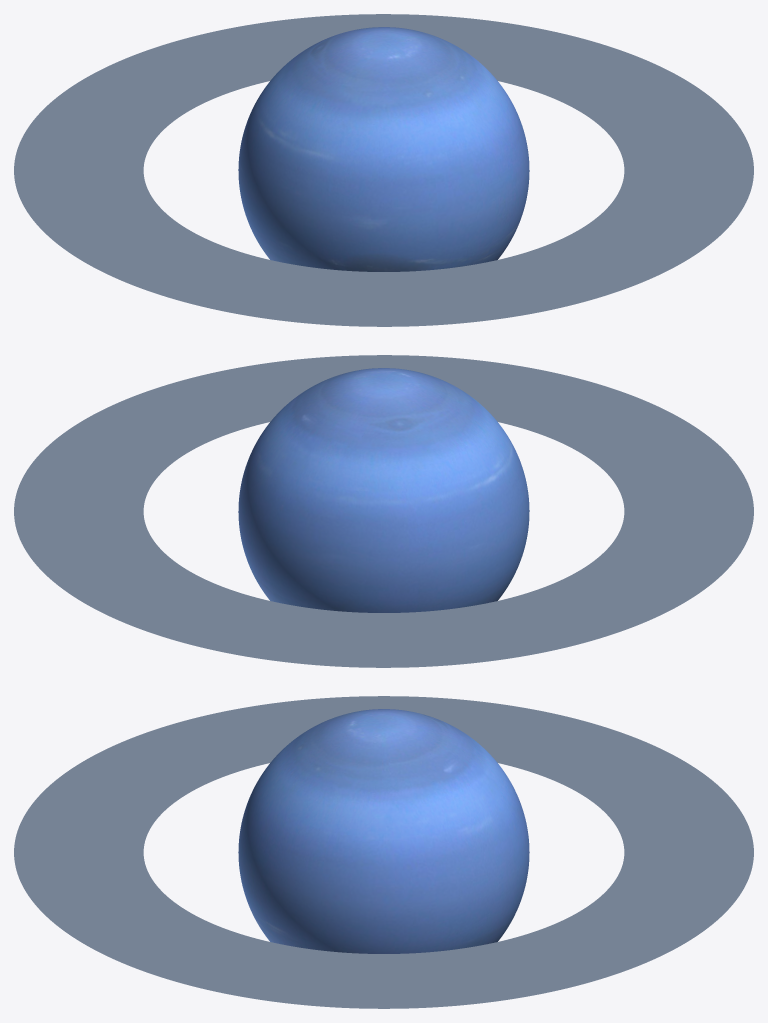
The model's file is neptune.glb.
3 renders of one model, top to bottom at view 1: azimuth 30°, elevation 25°; view 2: azimuth 150°, elevation 25°; view 3: azimuth 270°, elevation 25°, orthographic.
Parts seen in each view (by area): view 1: neptune_rings, neptune_globe; view 2: neptune_rings, neptune_globe; view 3: neptune_rings, neptune_globe.
Part boxes in pixels (box(x1,y1,x2,y2)): neptune_rings: box(14, 14, 753, 326); neptune_globe: box(238, 27, 529, 271); neptune_rings: box(14, 355, 753, 667); neptune_globe: box(238, 368, 529, 612); neptune_rings: box(14, 696, 753, 1008); neptune_globe: box(238, 709, 529, 953).
Size of the model in its own units: 5.09 by 1.97 by 5.09.
Materials: 2 (2 with a texture image).
